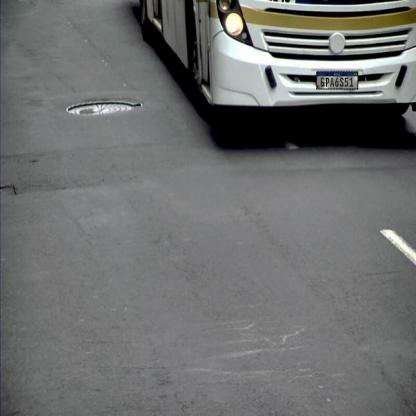PlacaM: (316, 72, 358, 90)
